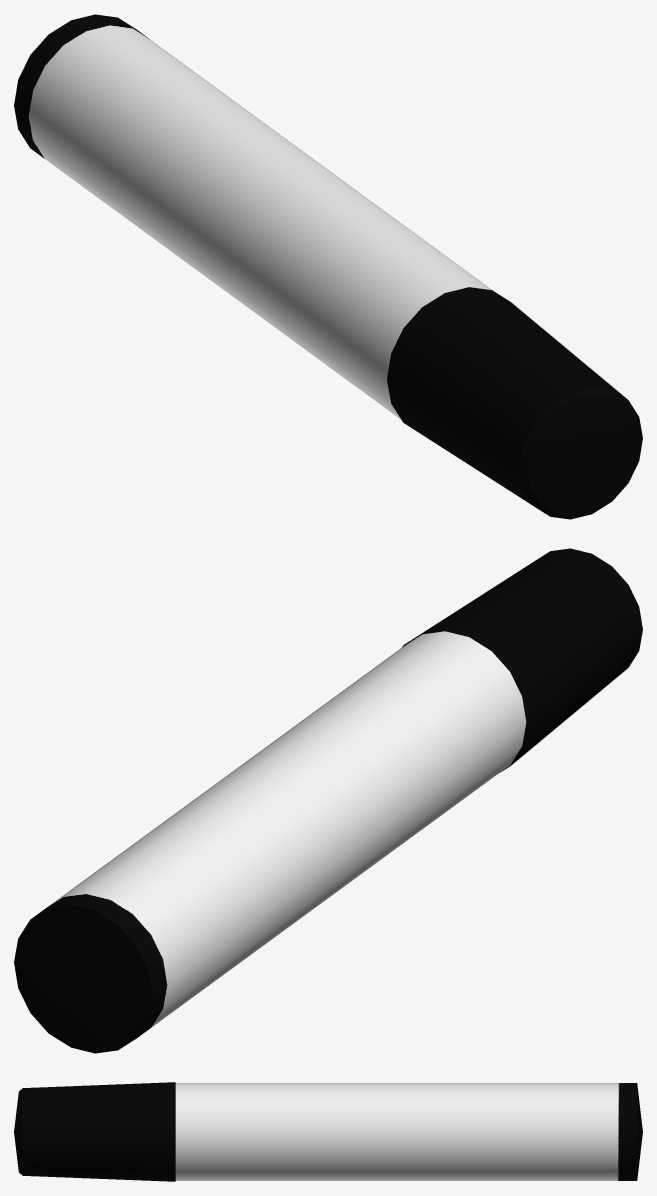
File: marker.glb
3 views of the same model, one above another, from view 1: azimuth 30°, elevation 25°; view 2: azimuth 150°, elevation 25°; view 3: azimuth 270°, elevation 25° (orthographic). The views are drawn at different scales.
Parts seen in each view (by area): view 1: marker, cap; view 2: marker, cap; view 3: marker, cap.
Boxes of the visible parts, box(x1,y1,x2,y2) form: marker: box(14, 14, 495, 419); cap: box(387, 287, 642, 519); marker: box(14, 631, 526, 1053); cap: box(402, 548, 642, 772); marker: box(175, 1083, 642, 1180); cap: box(14, 1082, 175, 1181).
Size of the model in its own units: 1.37 by 1.35 by 8.62.
Materials: 1 (1 with a texture image).
